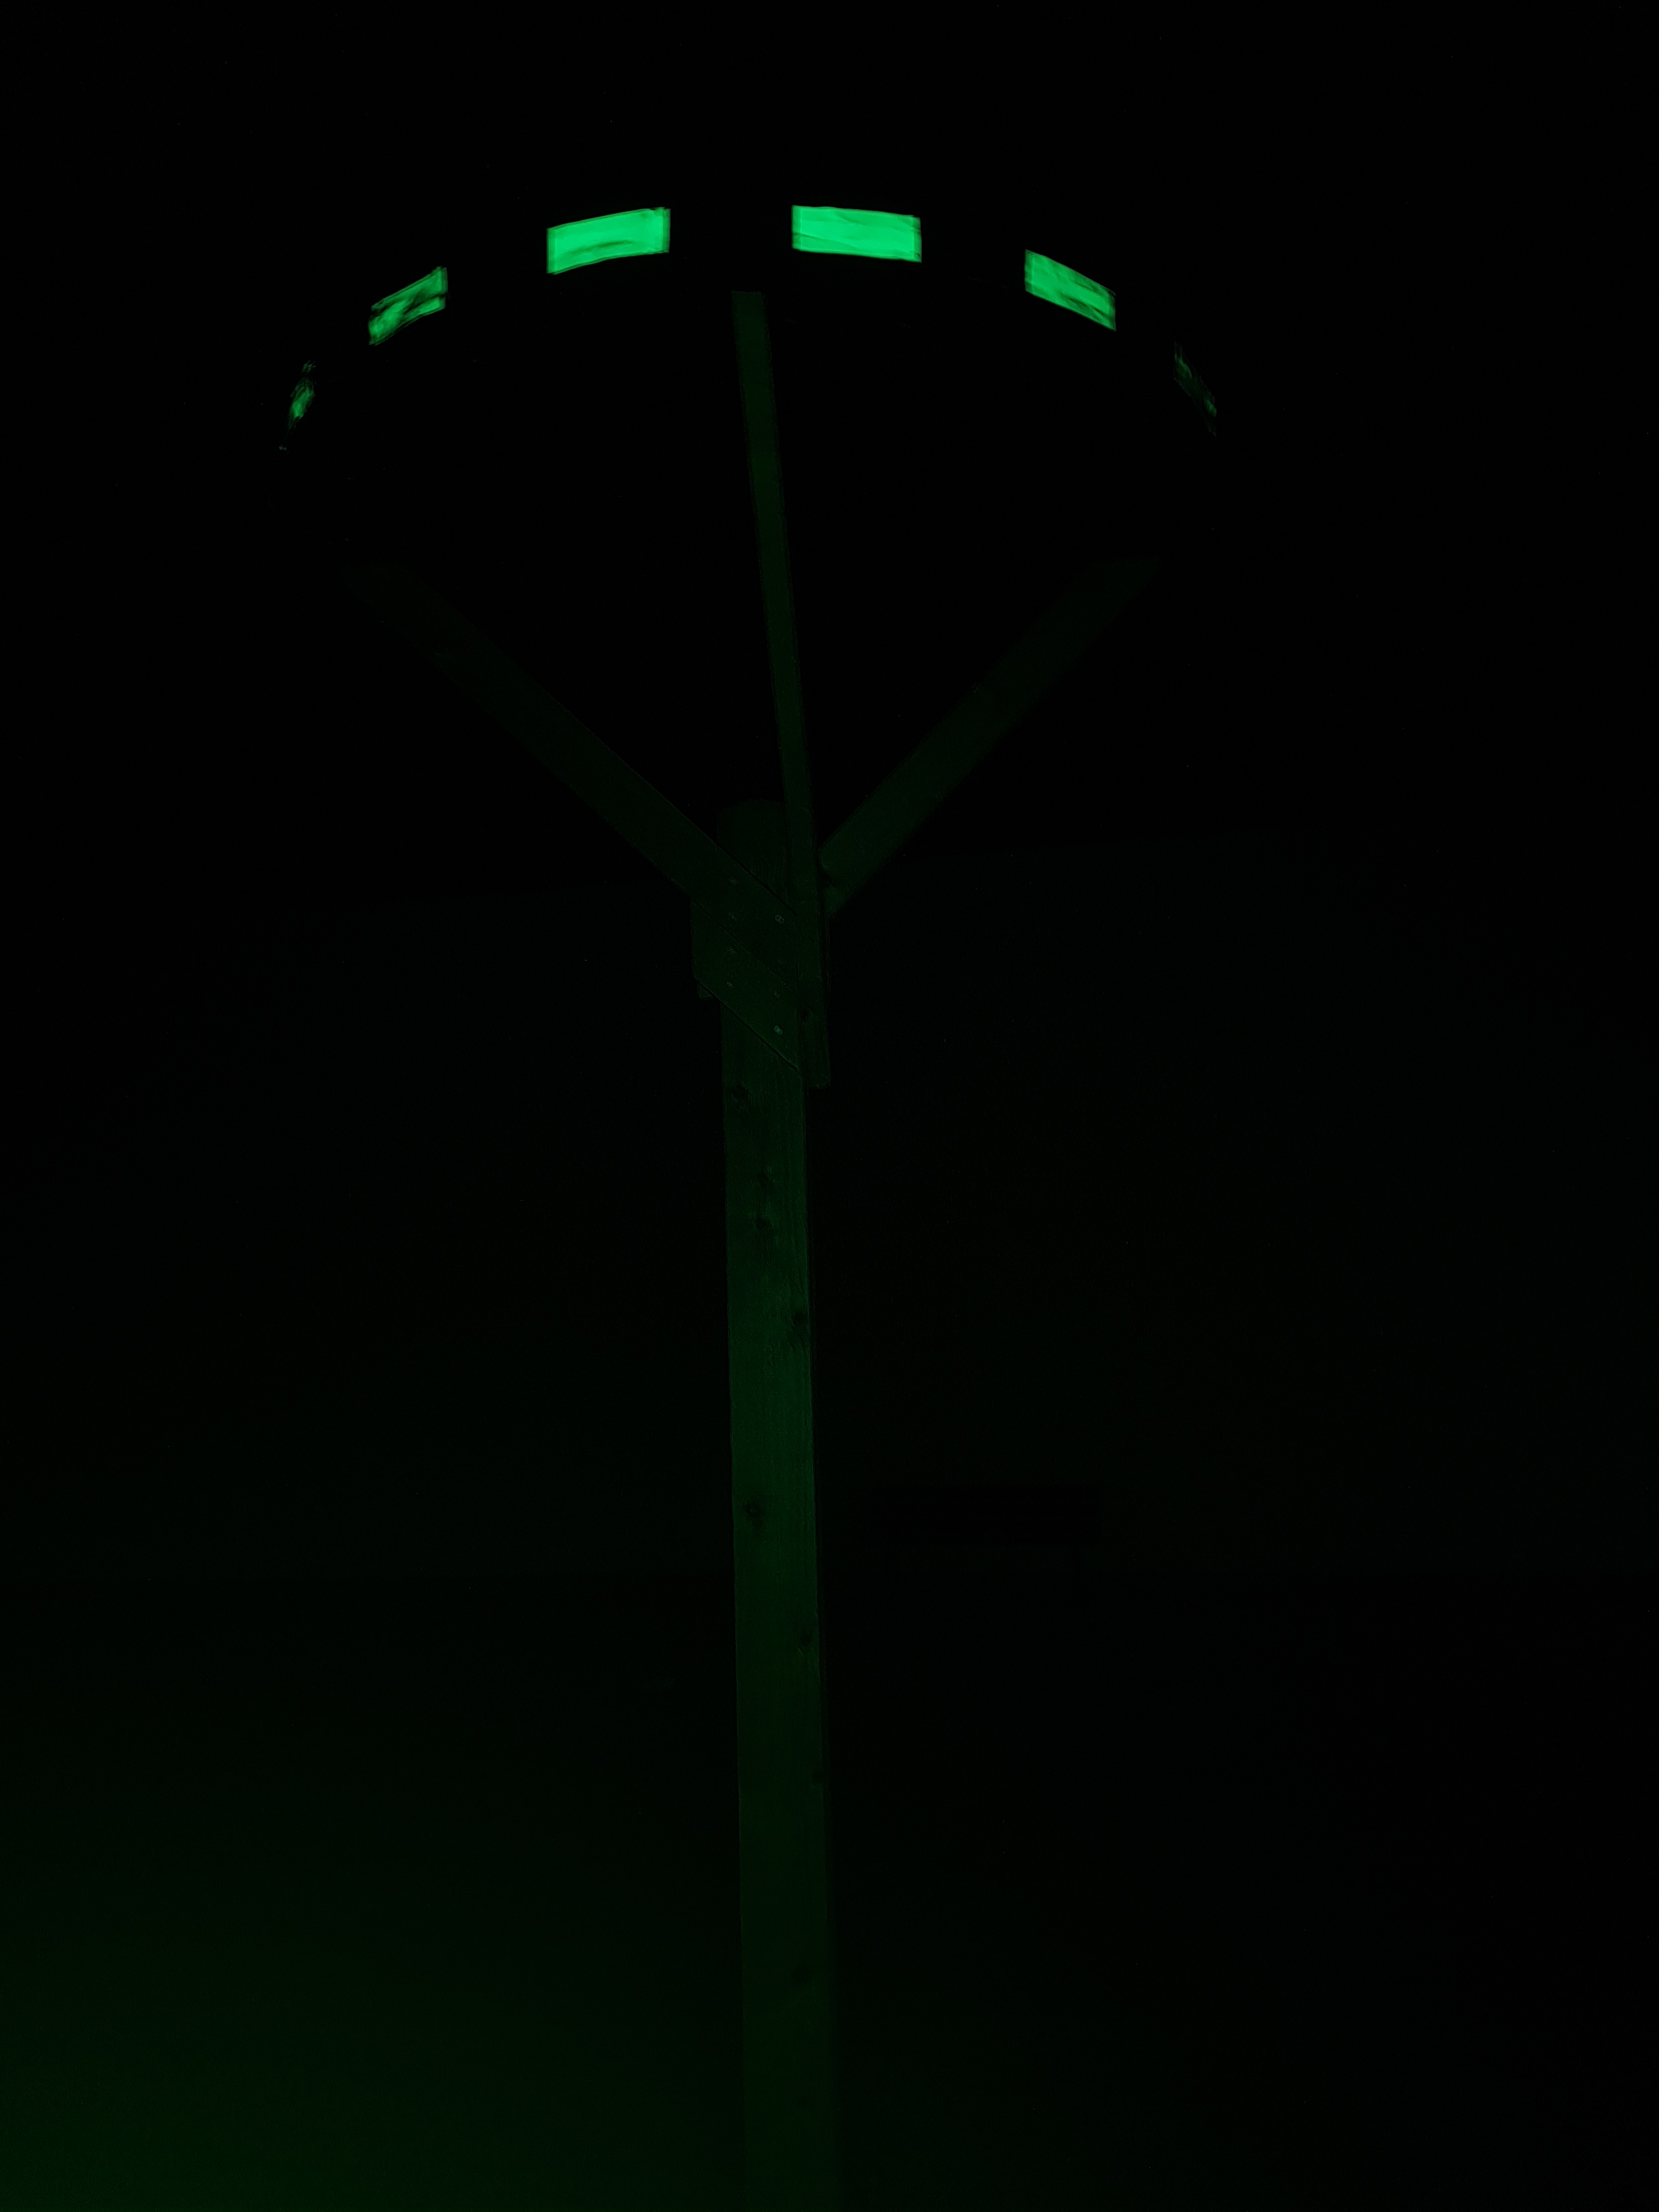hoop: (296, 188, 1119, 418)
